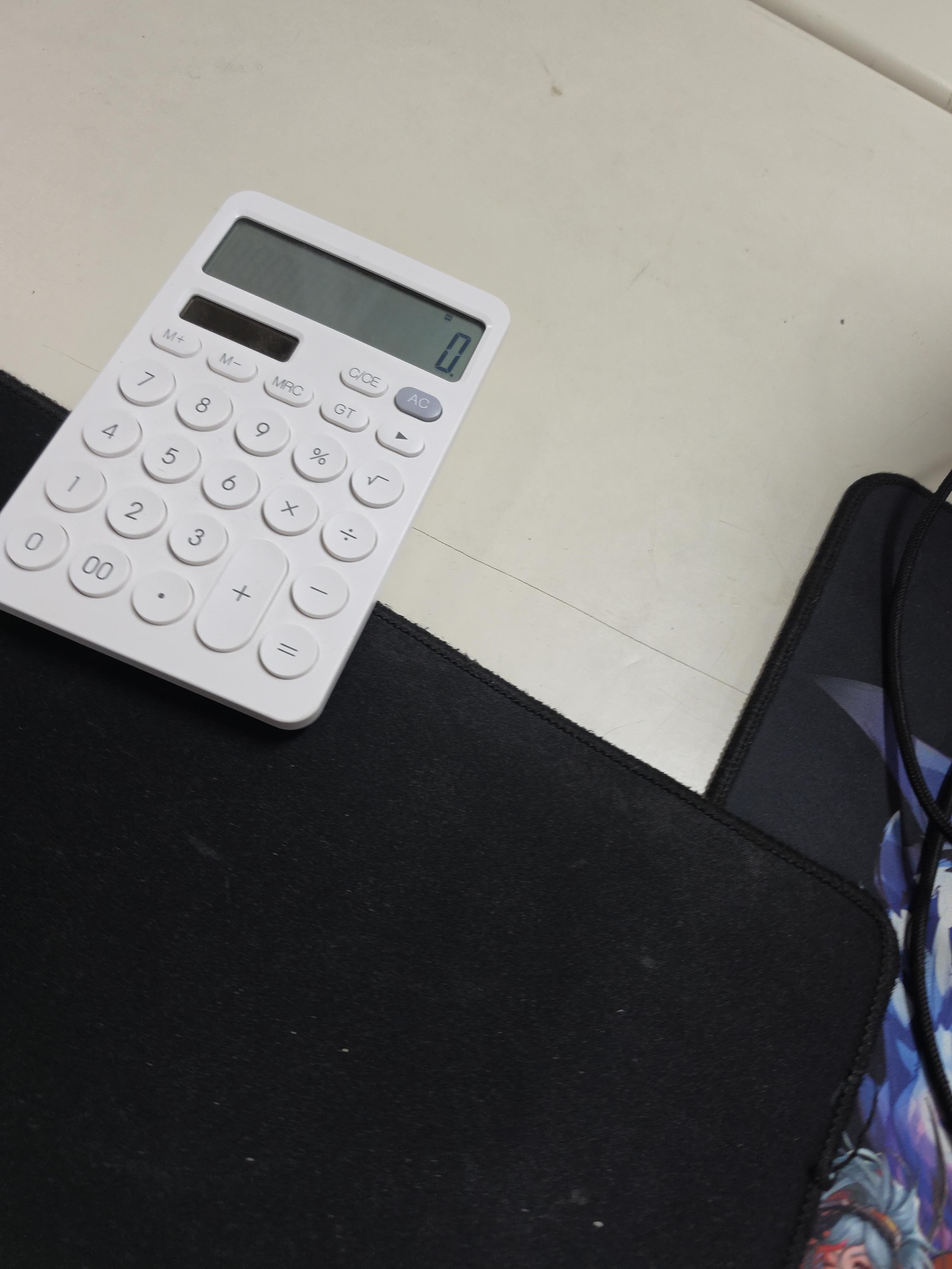calculator: (0, 190, 512, 730)
